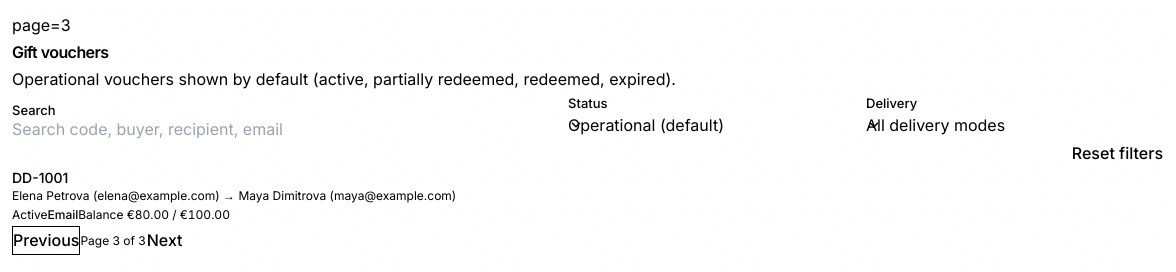
Test case: OpsGiftVouchers collection migration › disables Next on the last page and writes the previous page into the URL
Expected: the text "Page 3 of 3" is shown, [80,232,146,248]
Expected: the button "Next" is disabled, [146,226,184,255]
Click the button "Previous". click: click(46, 240)
box: [12,226,80,255]
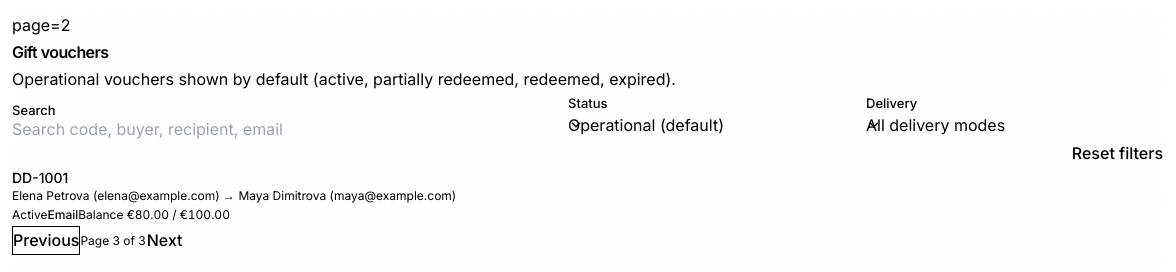
Expected: the text with test id "gv-search" reads "page=2", [12,15,70,35]
